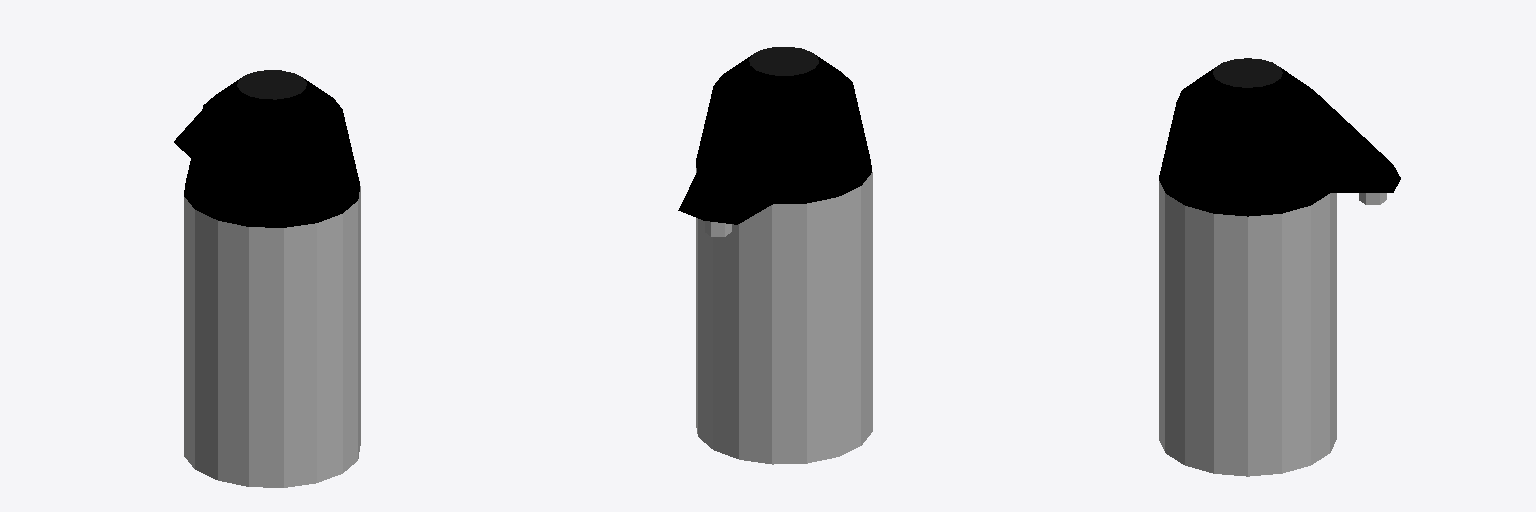
Rendered from kahvi.obj.
The picture shows the model from 3 angles: view 1: azimuth 30°, elevation 25°; view 2: azimuth 150°, elevation 25°; view 3: azimuth 270°, elevation 25°; orthographic projection.
Parts seen in each view (by area): view 1: kahvi_Cylinder.060; view 2: kahvi_Cylinder.060; view 3: kahvi_Cylinder.060.
Part boxes in pixels (x1,y1,x2,y2): kahvi_Cylinder.060: (174,70,360,487); kahvi_Cylinder.060: (678,47,872,464); kahvi_Cylinder.060: (1159,58,1400,476).
Size of the model in its own units: 3.45 by 7.81 by 4.7.